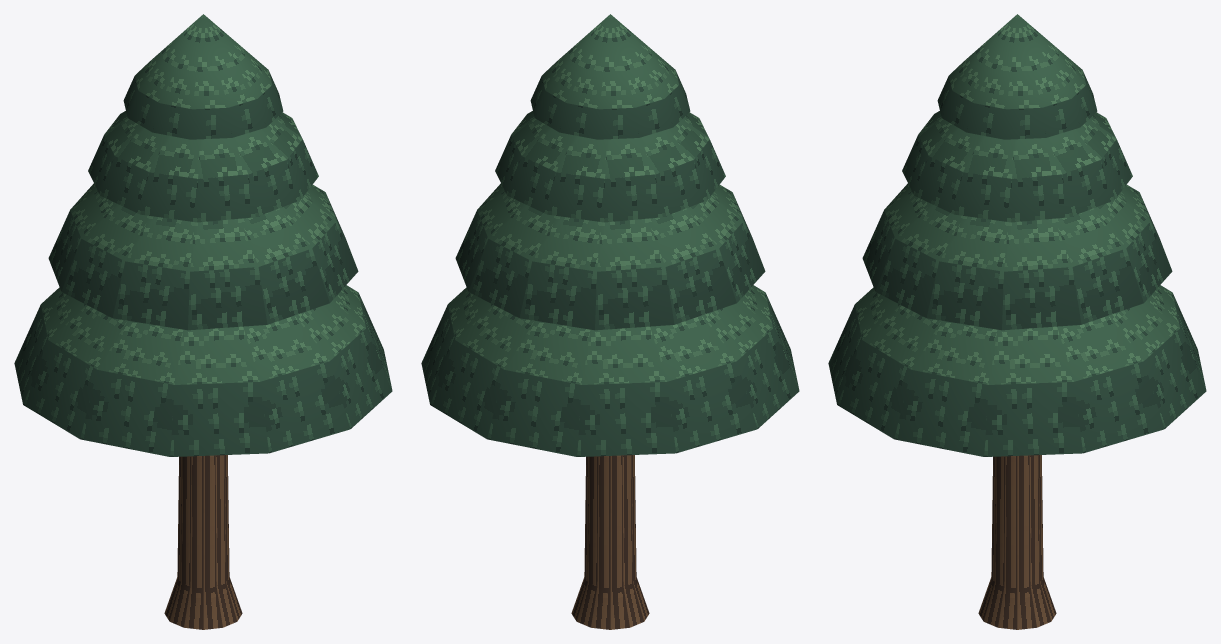
File: pine_0.glb
The picture shows the model from 3 angles, left to right: view 1: azimuth 30°, elevation 25°; view 2: azimuth 150°, elevation 25°; view 3: azimuth 270°, elevation 25°; orthographic projection.
Visible parts, largest first — view 1: pine_1; view 2: pine_1; view 3: pine_1.
Part boxes in pixels (x1,y1,x2,y2): pine_1: (14,14,392,629); pine_1: (421,14,799,629); pine_1: (828,14,1206,629).
Size of the model in its own units: 2.33 by 4.07 by 2.33.
3 materials, 3 textured.
